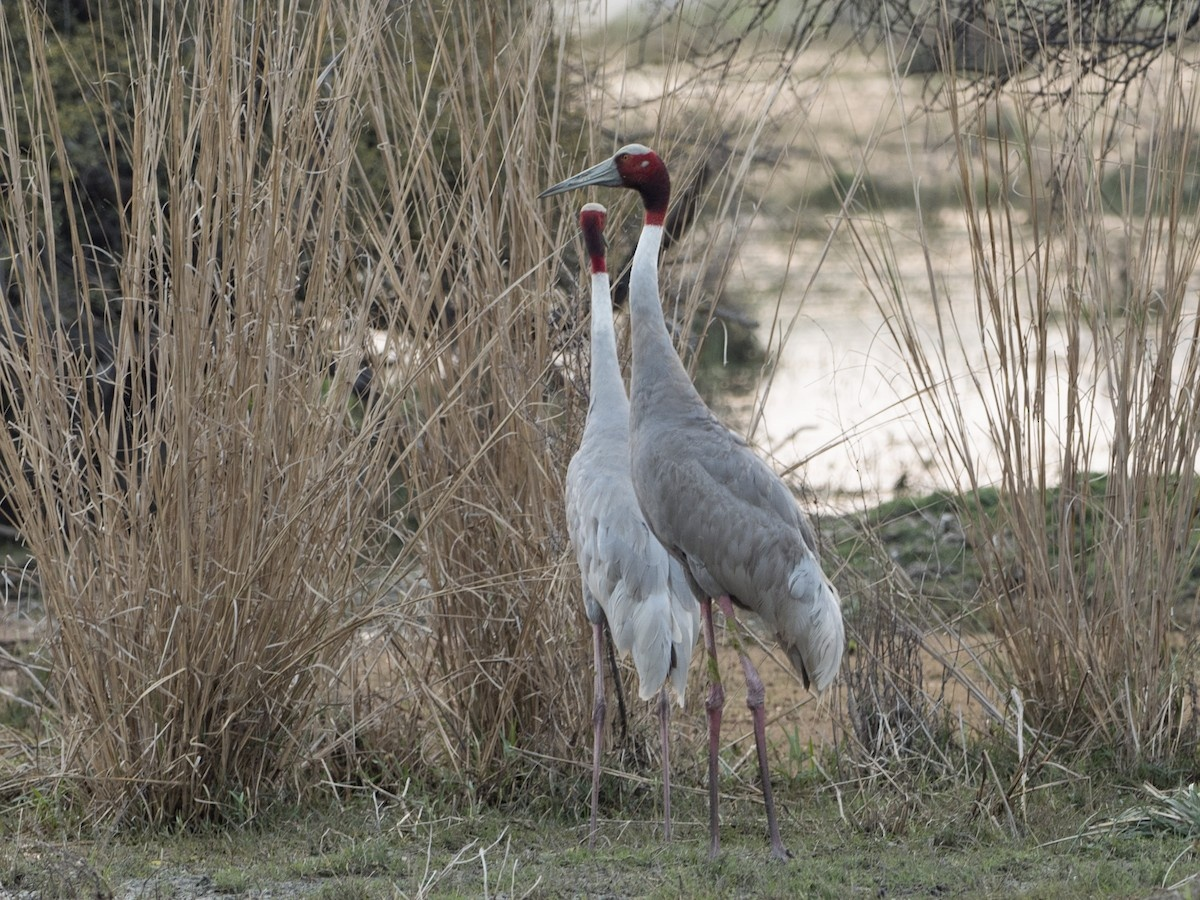crane: (532, 125, 881, 888), (574, 202, 674, 823)
